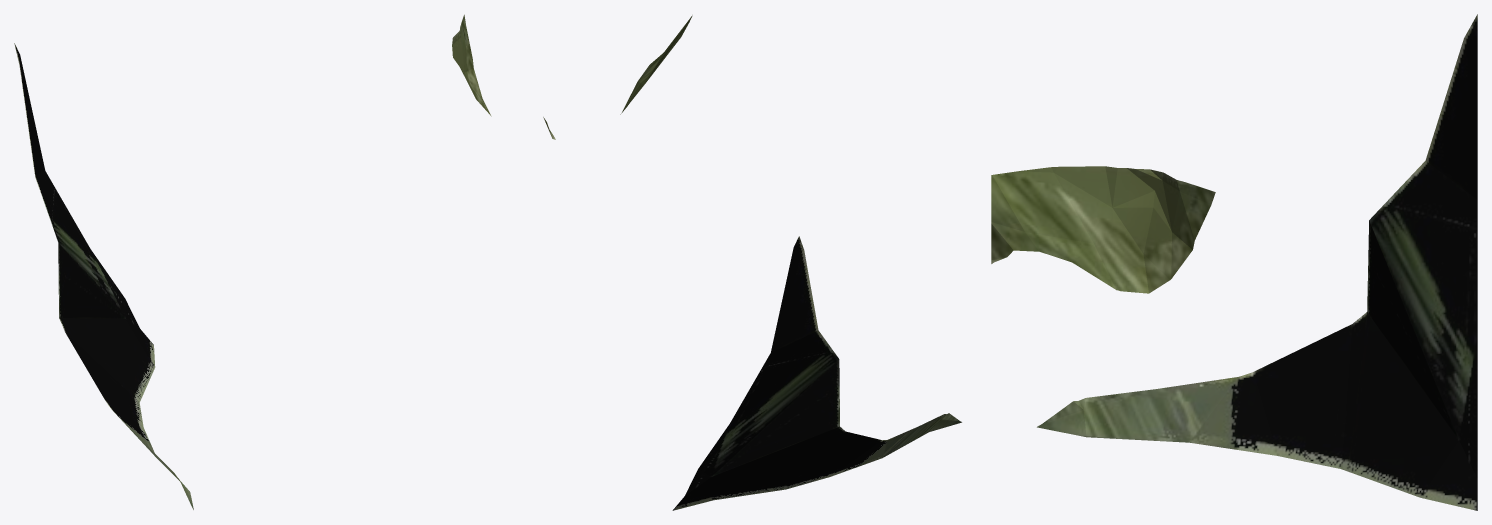
3 renders of one model, left to right at view 1: azimuth 30°, elevation 25°; view 2: azimuth 150°, elevation 25°; view 3: azimuth 270°, elevation 25°, orthographic. The views are drawn at different scales.
Bounding box in the file's own units: 5.9 × 5.9 × 5.9.
1 material, 1 textured.
